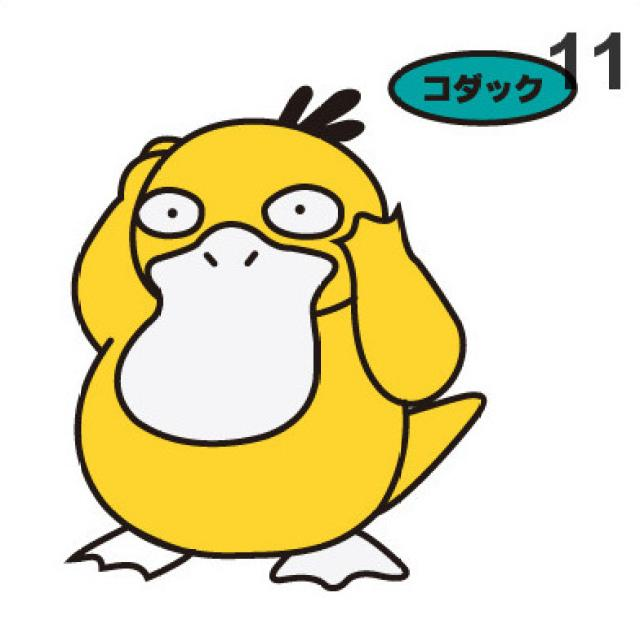Psyduck: (61, 118, 482, 587)
